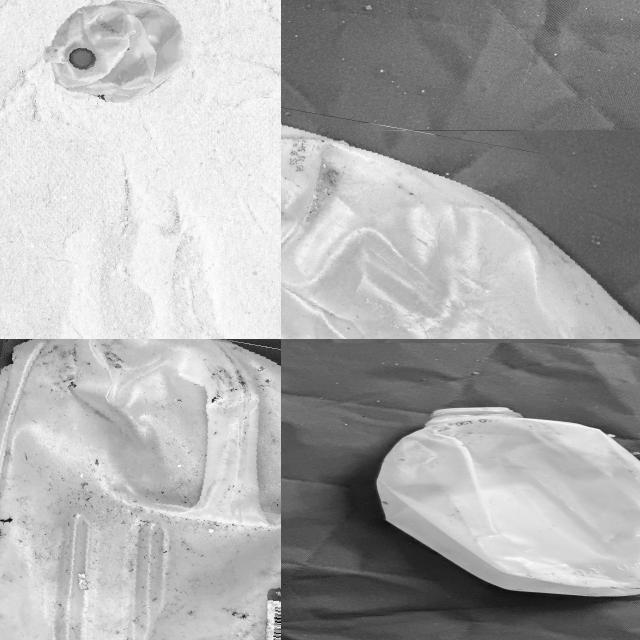milk-jug: (0, 339, 281, 640), (281, 109, 640, 339), (376, 407, 640, 598), (40, 0, 195, 110)
